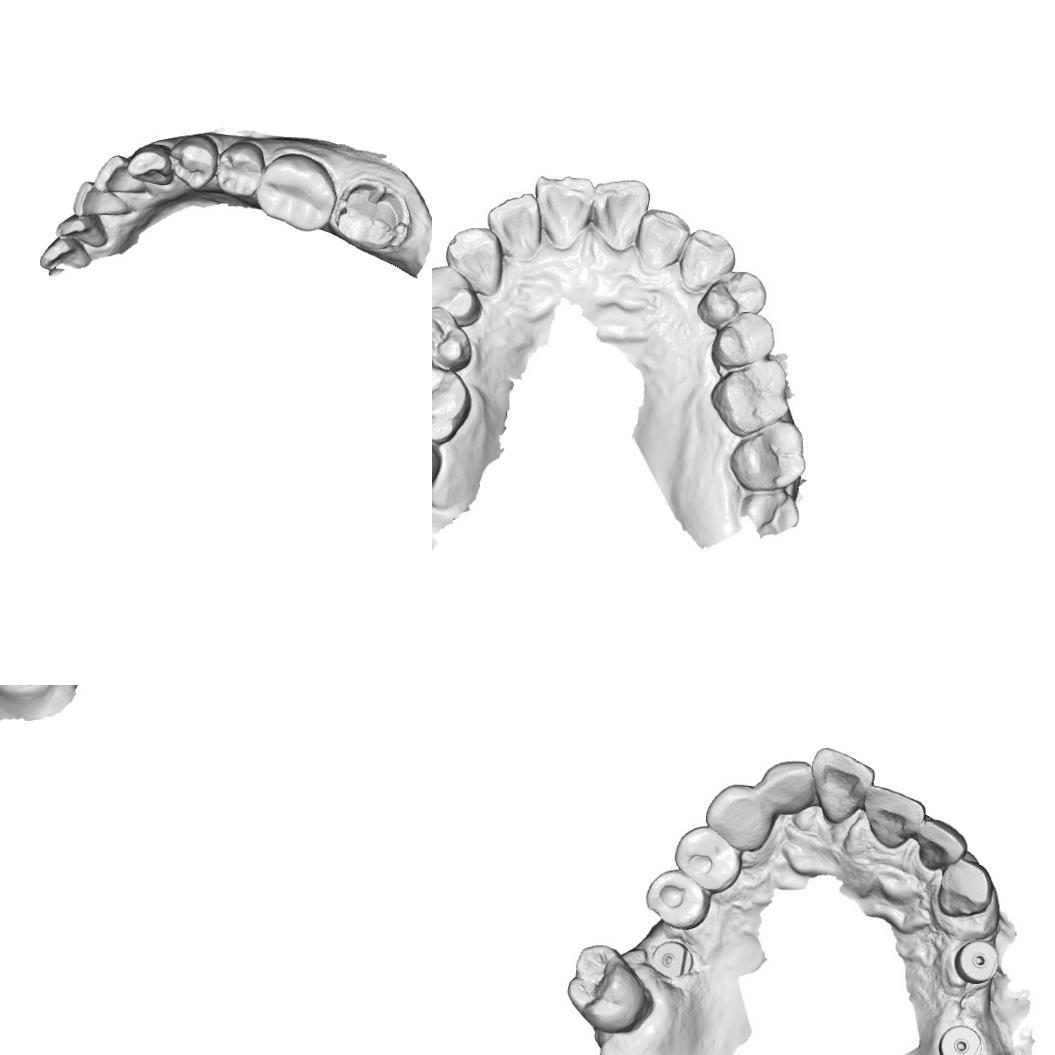canine: (704, 784, 771, 854), (441, 224, 504, 296), (676, 225, 740, 295), (934, 858, 994, 924), (125, 142, 174, 184)
crown: (330, 174, 412, 256)
implant: (956, 936, 1002, 983), (650, 939, 695, 984), (937, 1018, 986, 1055)
incisor: (591, 175, 648, 258), (534, 174, 592, 252), (815, 751, 870, 820), (485, 189, 537, 261), (864, 790, 924, 847), (764, 760, 818, 812), (638, 210, 686, 266), (70, 178, 132, 218), (918, 820, 966, 870), (94, 154, 148, 195), (54, 214, 109, 248)
molar: (562, 942, 653, 1038), (254, 148, 342, 238), (728, 416, 807, 497), (710, 364, 790, 436), (432, 360, 474, 446)
premolar: (710, 314, 778, 372), (643, 868, 706, 930), (677, 830, 740, 888), (432, 263, 484, 328), (432, 304, 479, 370), (168, 132, 219, 190), (216, 139, 266, 198), (708, 274, 764, 323)
